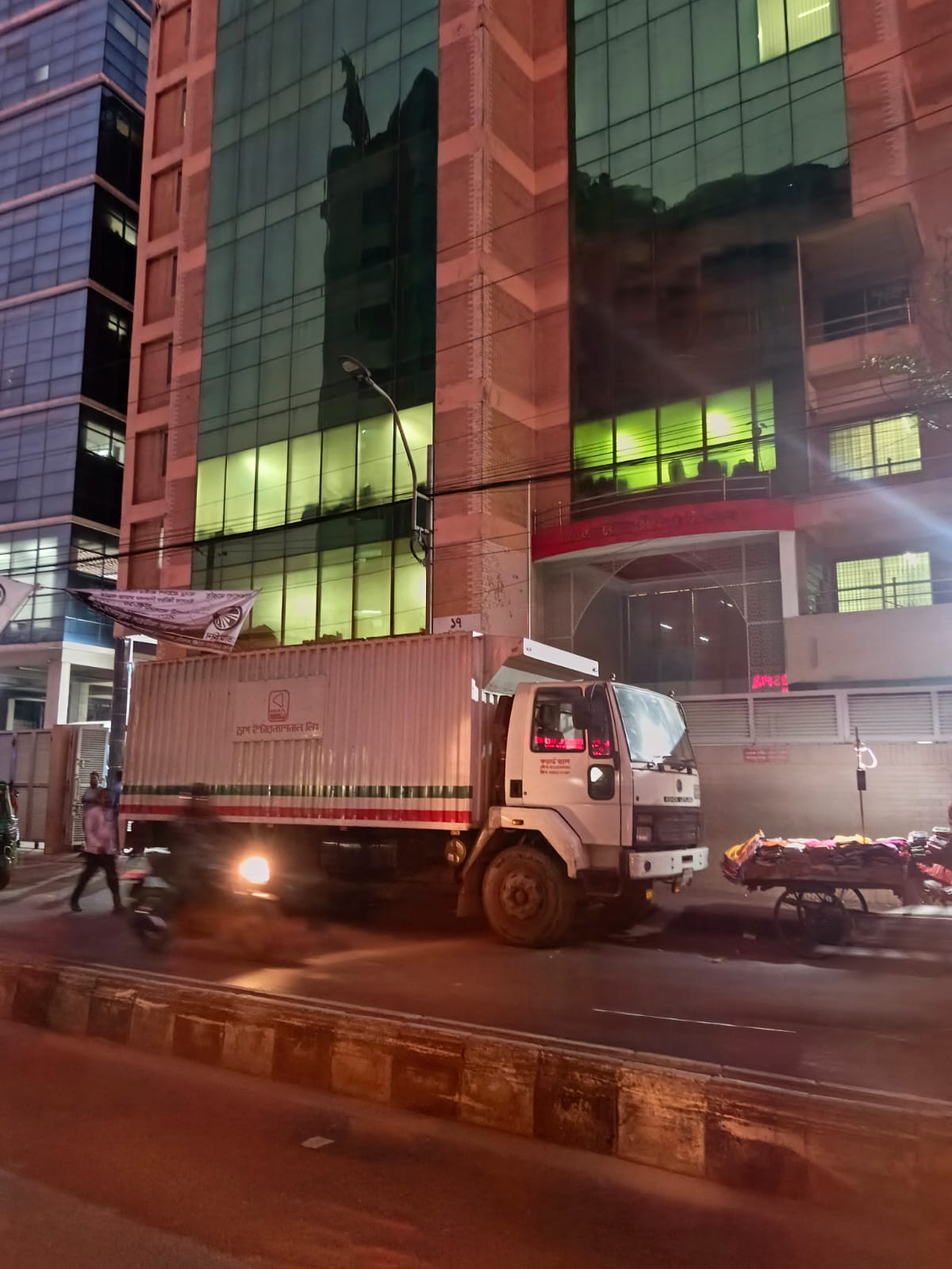Truck: (111, 616, 717, 957)
